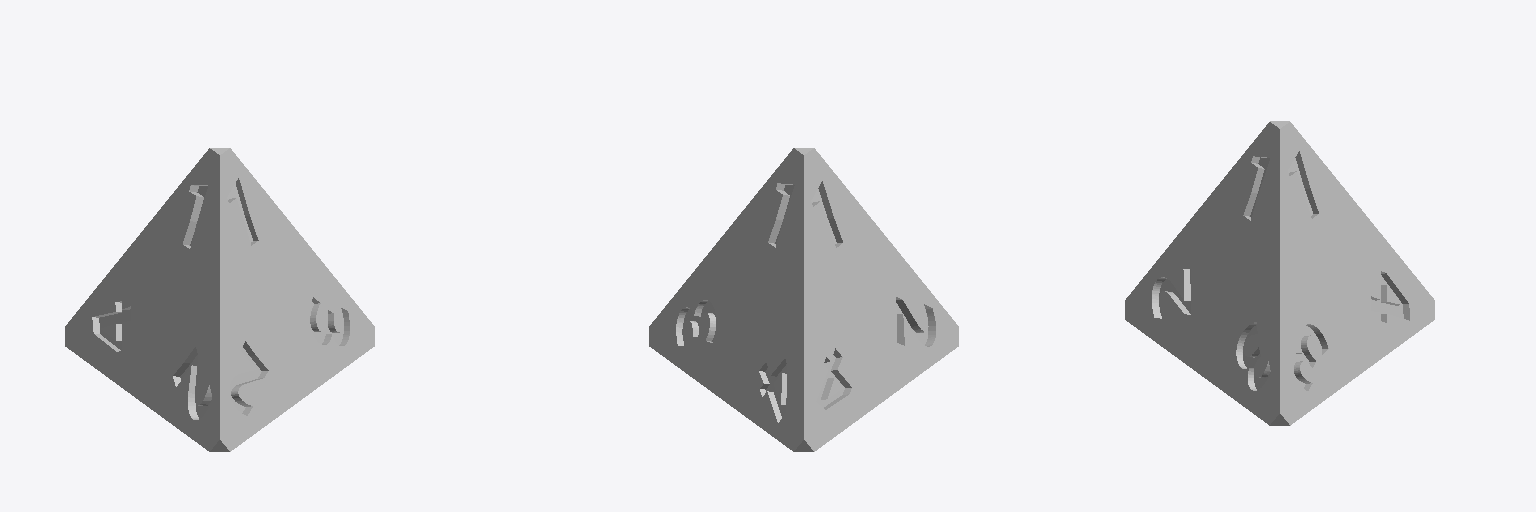
The model's file is Dice4.obj.
The picture shows the model from 3 angles: view 1: azimuth 30°, elevation 25°; view 2: azimuth 150°, elevation 25°; view 3: azimuth 270°, elevation 25°; orthographic projection.
Parts seen in each view (by area): view 1: D4_16mm; view 2: D4_16mm; view 3: D4_16mm.
Boxes of the visible parts, <box> form: D4_16mm: <box>65,148,374,451</box>; D4_16mm: <box>649,148,958,451</box>; D4_16mm: <box>1125,121,1434,425</box>.
Bounding box in the file's own units: 1.73 × 1.6 × 1.96.